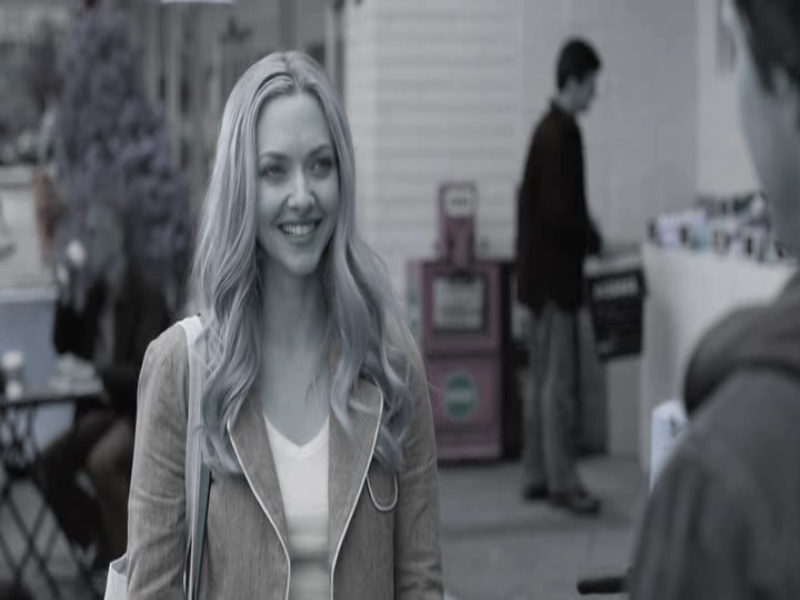TsisyArotava: (219, 65, 359, 287)
